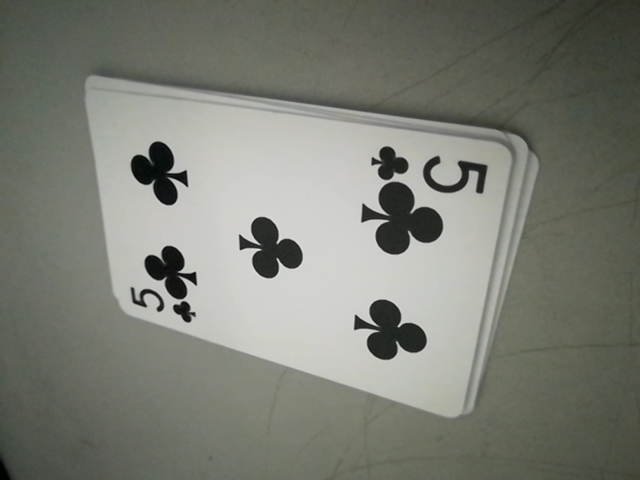mh 5: (368, 142, 498, 191), (123, 284, 198, 326)
